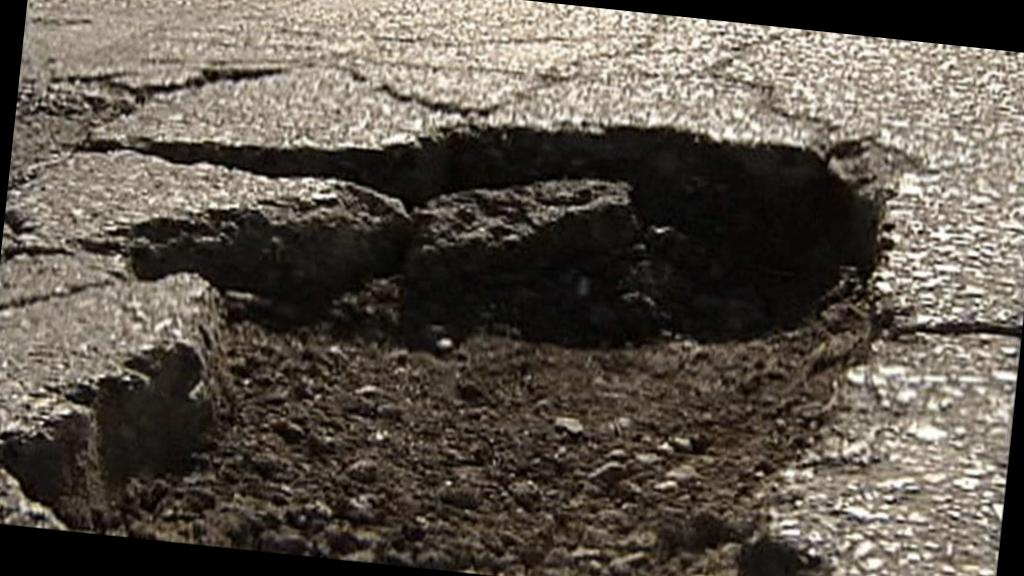pothole: (33, 36, 928, 576)
